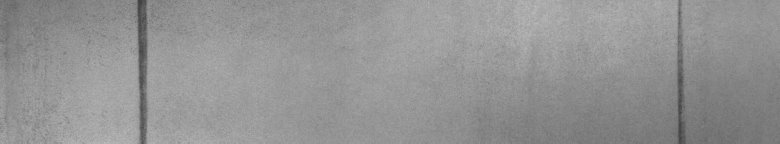hd: (124, 4, 162, 136)
